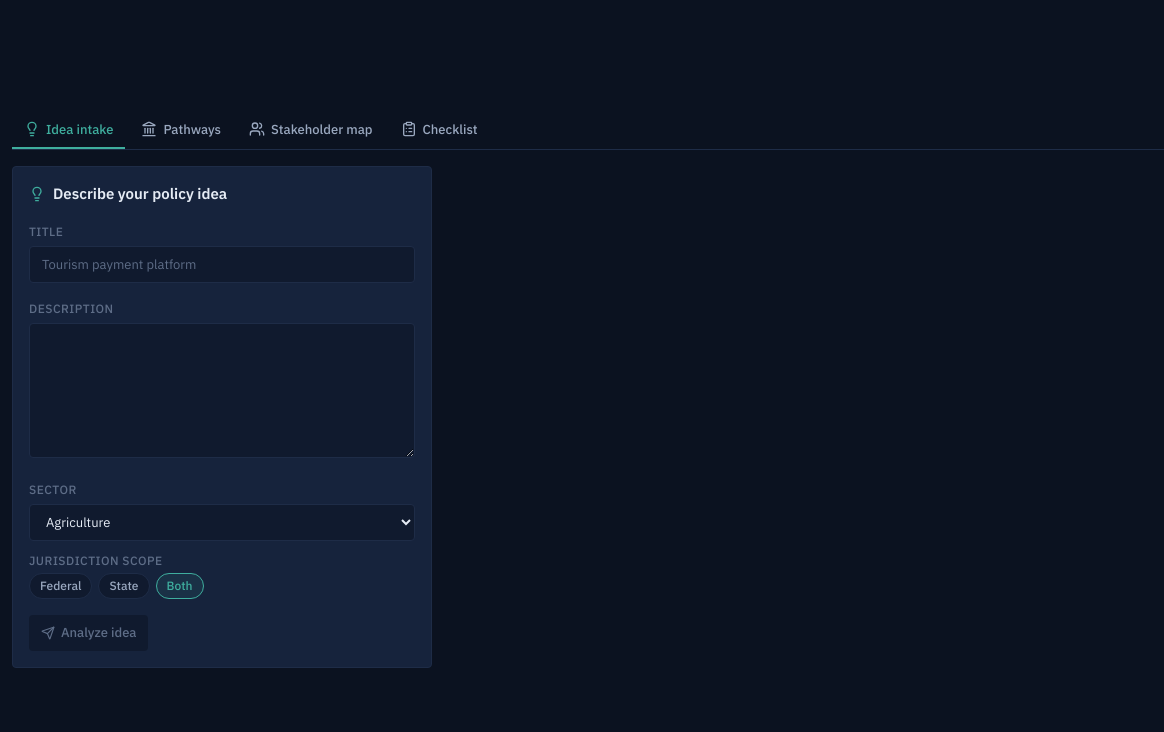
Advocacy — pathways tab › renders pathway cards and detail from mocked tRPC
Click the tab "Pathways": [181, 130] box [129,112,233,149]
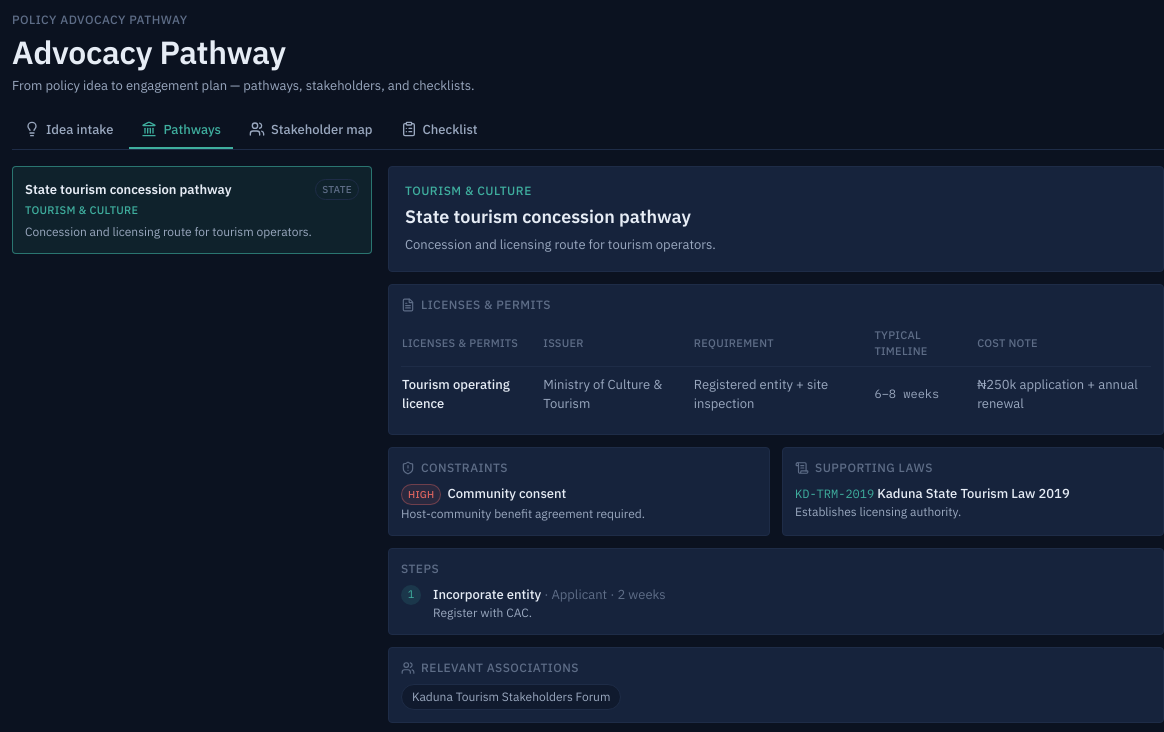
Result: the text "State tourism concession pathway" is shown at [25,180,232,199]
Result: the text "Tourism operating licence" is shown at [401,366,542,422]
Result: the text "Community consent" is shown at [448,484,566,502]
